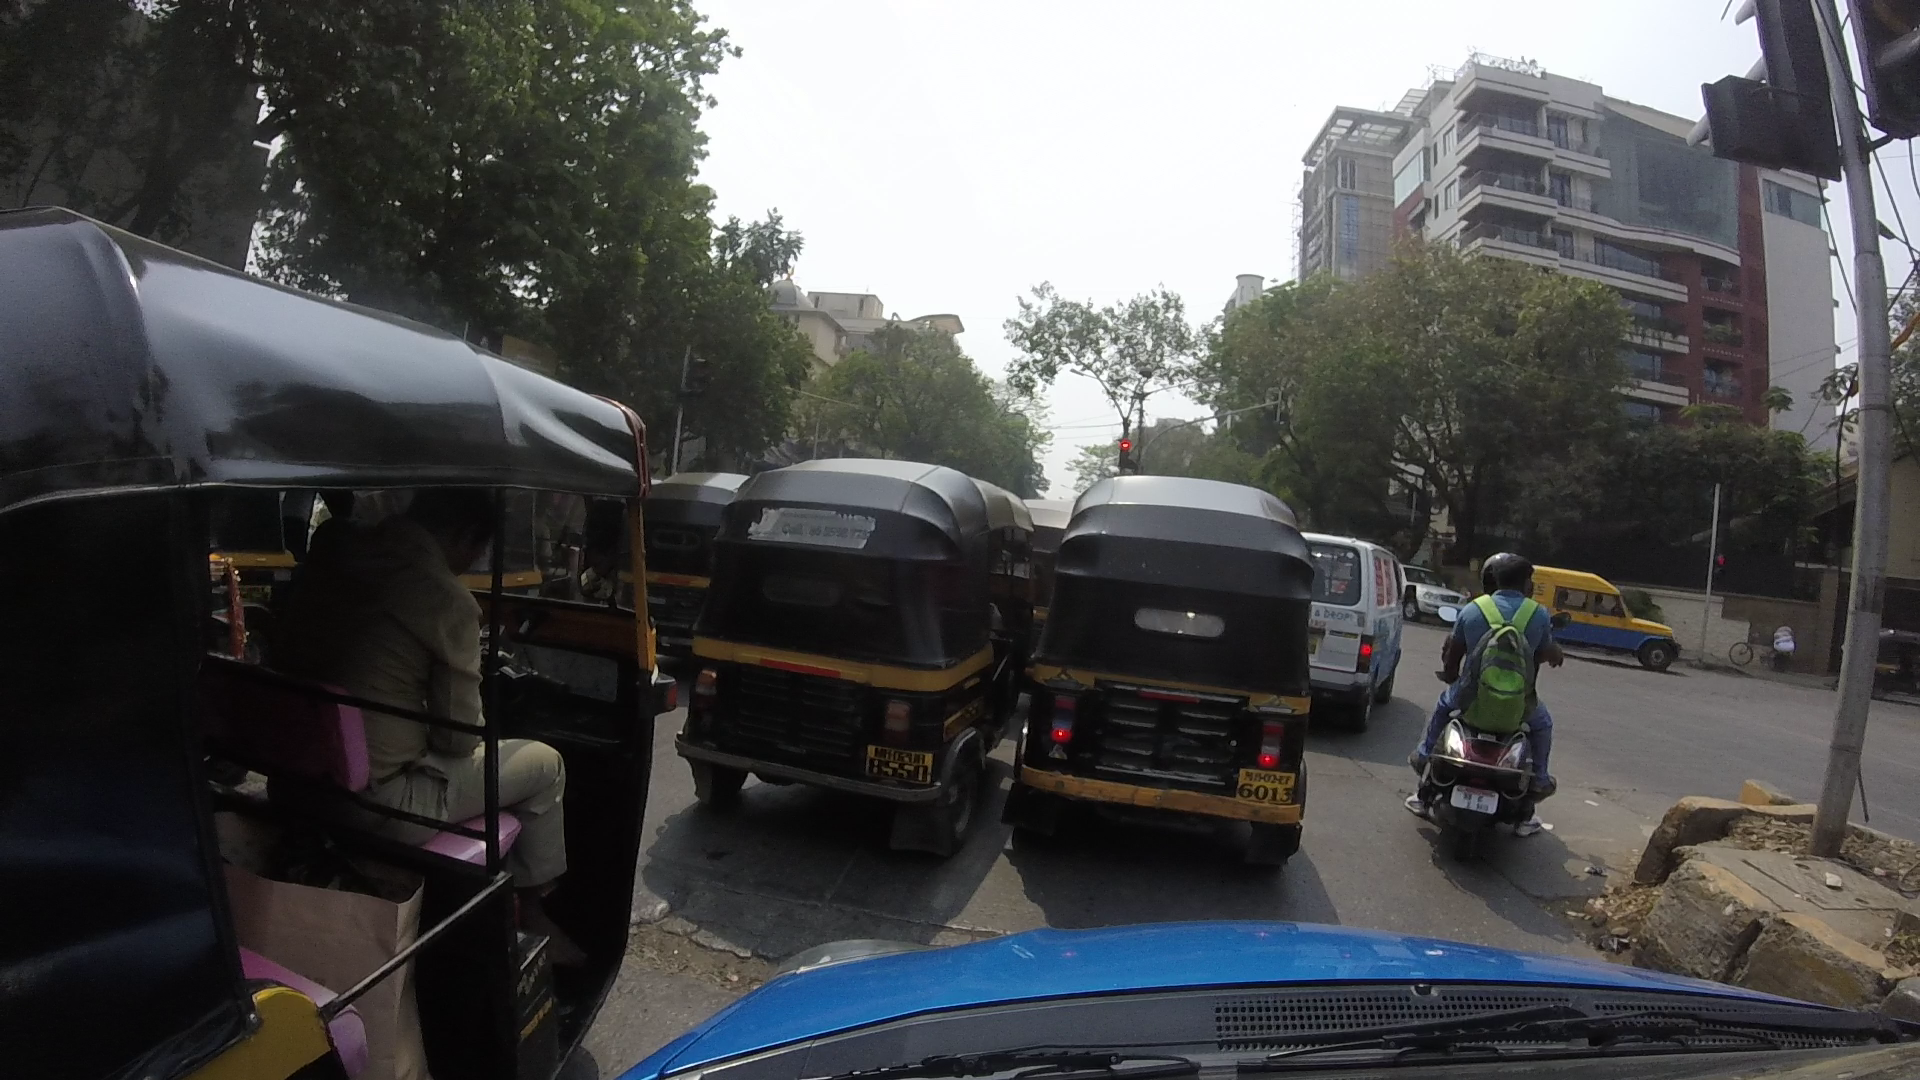bike/scooter: (1419, 539, 1555, 851)
cat: (1302, 524, 1399, 733)
rickshaw: (13, 208, 634, 1062), (702, 460, 1005, 848), (1043, 469, 1323, 839)
